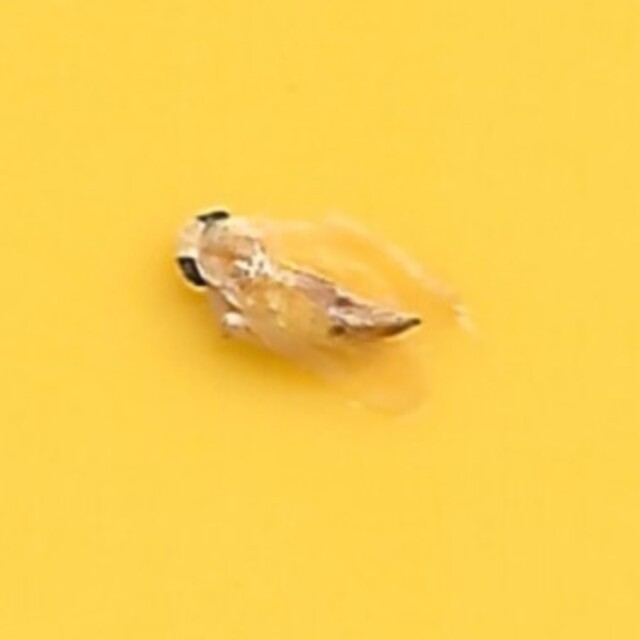Hemiptera: (168, 201, 472, 439)
